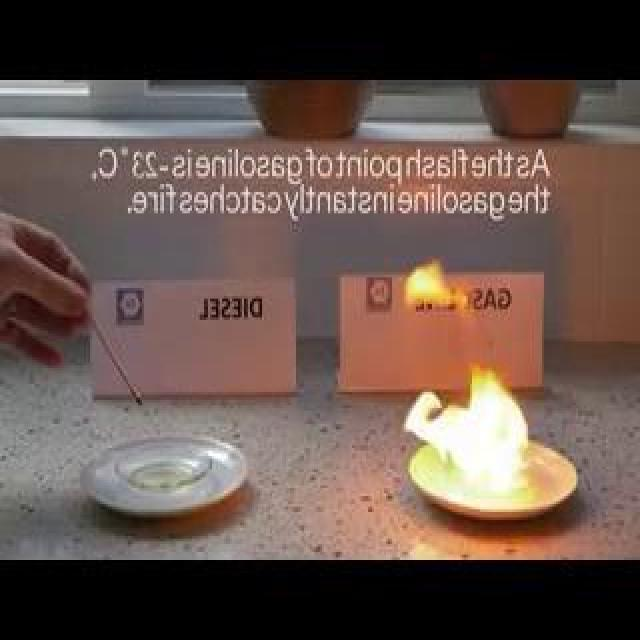Fire: (412, 290, 518, 490)
